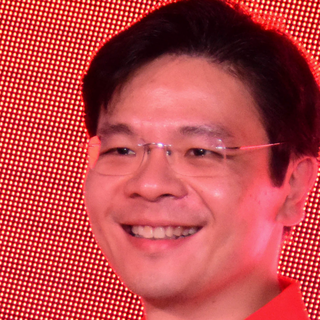eye: (181, 145, 225, 162), (98, 145, 142, 161)
